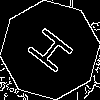H: (25, 25, 83, 82)
